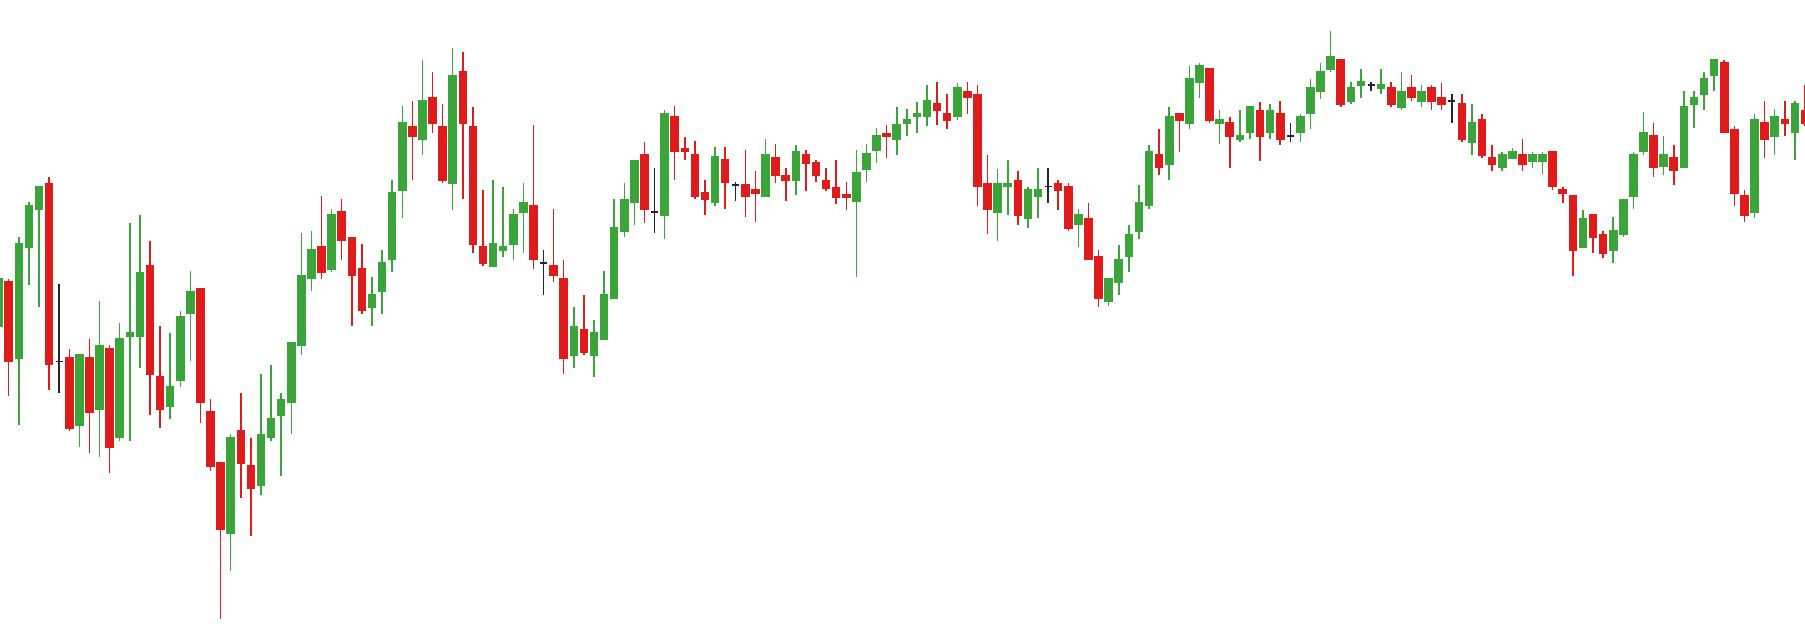buy: (102, 298, 236, 636), (1668, 109, 1759, 222)
sell: (1181, 26, 1346, 134)
